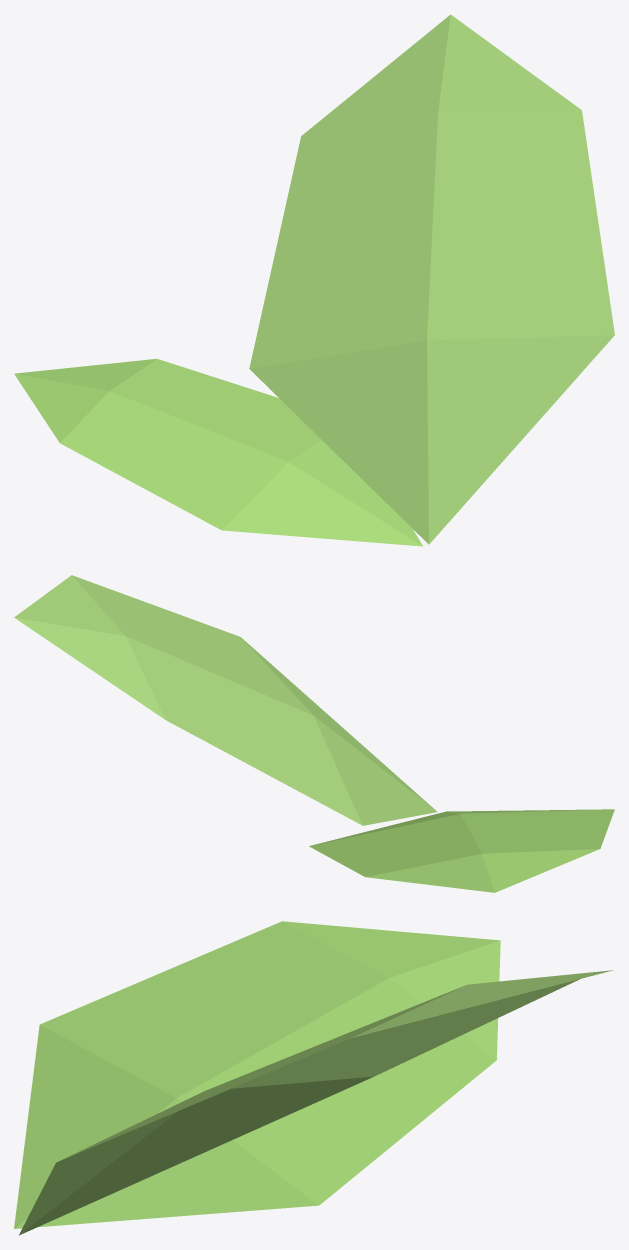
File: Plant_h_OneS_02.fbx
3 renders of one model, top to bottom at view 1: azimuth 30°, elevation 25°; view 2: azimuth 150°, elevation 25°; view 3: azimuth 270°, elevation 25°, orthographic. The views are drawn at different scales.
Parts seen in each view (by area): view 1: Plant_h_OneS_02; view 2: Plant_h_OneS_02; view 3: Plant_h_OneS_02.
Boxes of the visible parts, x1,y1,x2,y2 form: Plant_h_OneS_02: (14, 14, 614, 546); Plant_h_OneS_02: (14, 575, 614, 892); Plant_h_OneS_02: (14, 921, 613, 1235).
Bounding box in the file's own units: 31.73 × 17.28 × 22.12.
